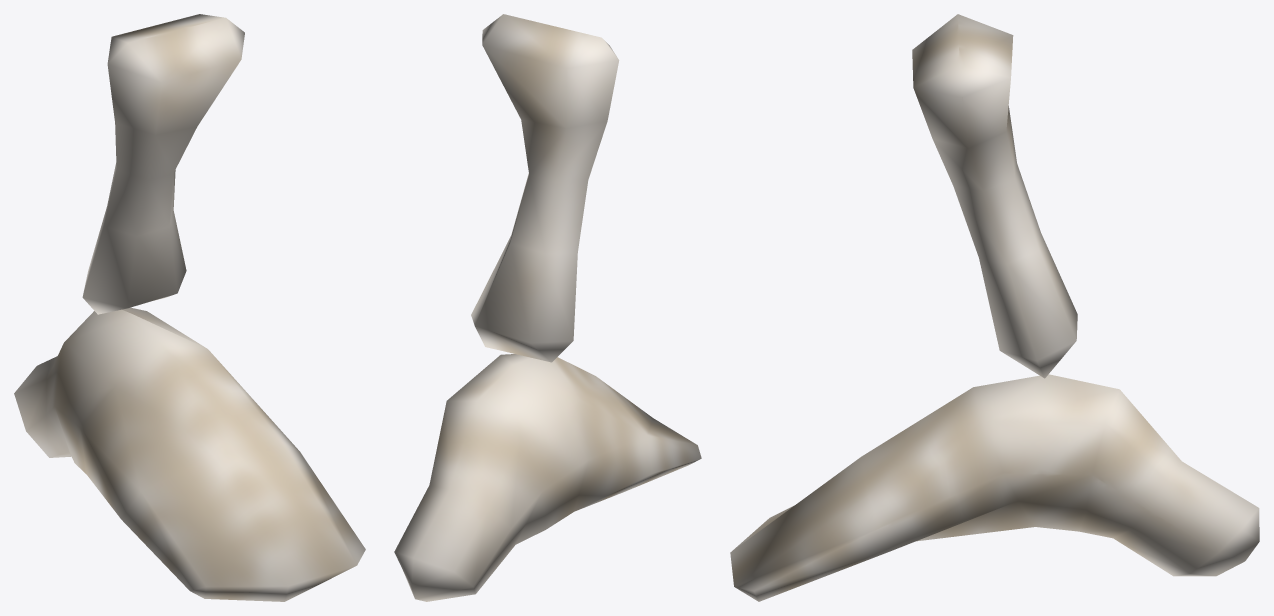
File: Shin.fbx
3 renders of one model, left to right at view 1: azimuth 30°, elevation 25°; view 2: azimuth 150°, elevation 25°; view 3: azimuth 270°, elevation 25°, orthographic. The views are drawn at different scales.
Visible parts, largest first — view 1: Shin; view 2: Shin; view 3: Shin.
Boxes of the visible parts, <box> form: Shin: <box>14,14,365,601</box>; Shin: <box>394,14,701,601</box>; Shin: <box>730,14,1259,601</box>.
Size of the model in its own units: 6.92 by 19.35 by 17.33.
